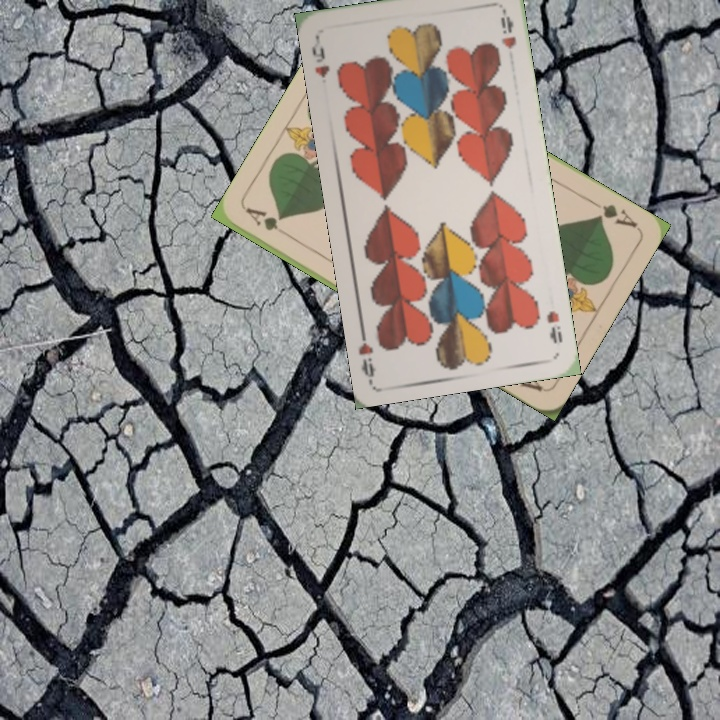GA: (242, 204, 296, 242), (586, 195, 640, 231)
H9: (307, 35, 333, 80), (542, 306, 565, 347)
